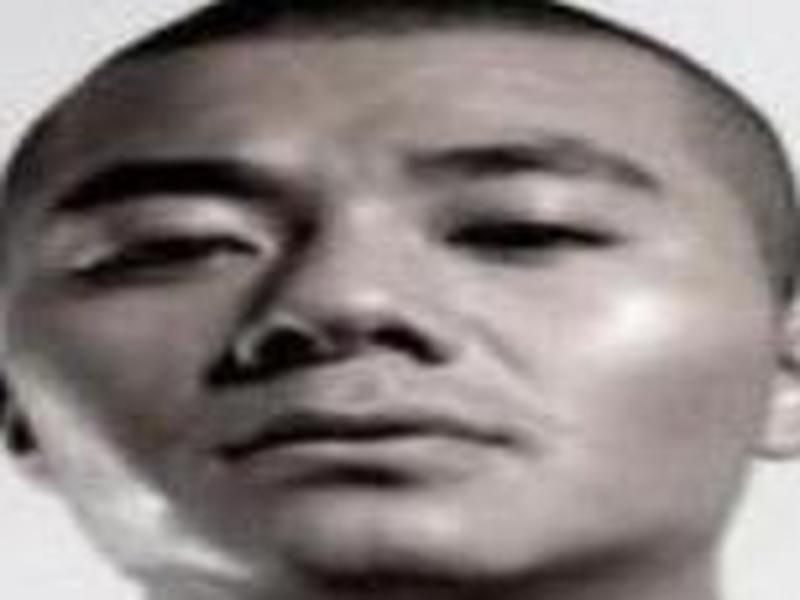without_mask: (12, 65, 768, 587)
